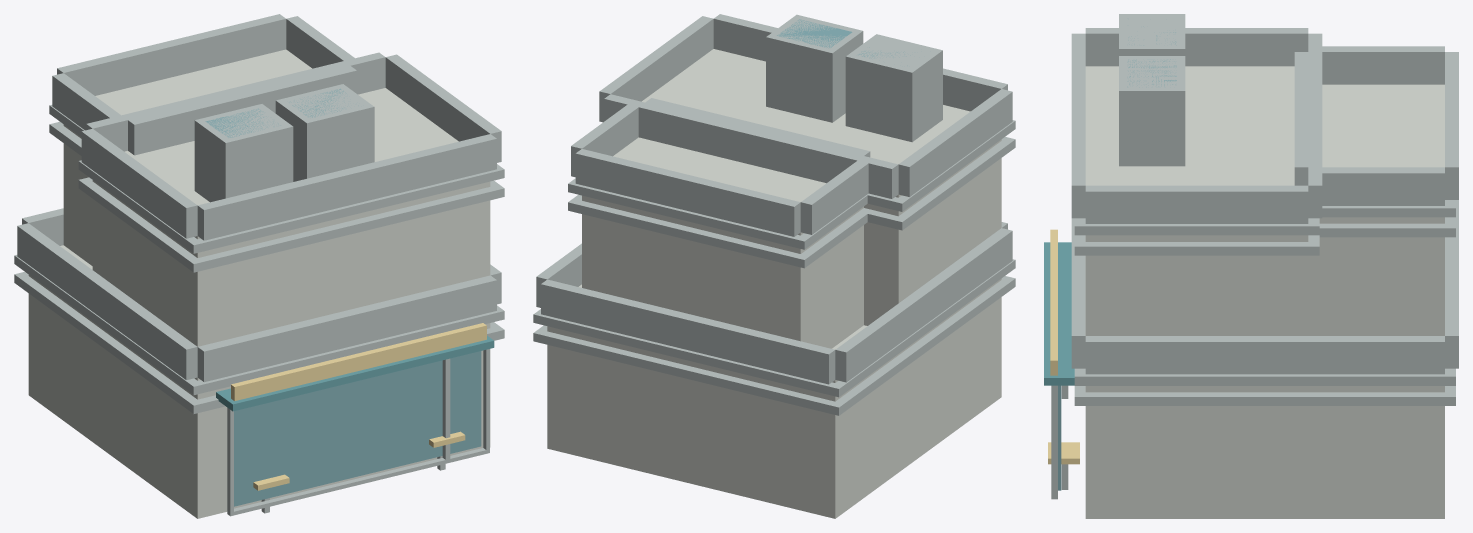
The model's file is commercial_1x1_court.glb.
3 views of the same model, side by side, from view 1: azimuth 30°, elevation 25°; view 2: azimuth 150°, elevation 25°; view 3: azimuth 270°, elevation 25° (orthographic). The views are drawn at different scales.
Parts seen in each view (by area): view 1: commercial_1x1_court_0; view 2: commercial_1x1_court_0; view 3: commercial_1x1_court_0.
Part boxes in pixels (x1,y1,x2,y2): commercial_1x1_court_0: [14, 14, 504, 518]; commercial_1x1_court_0: [533, 14, 1015, 518]; commercial_1x1_court_0: [1044, 14, 1458, 518].
Bounding box in the file's own units: 7 × 7.5 × 7.5.
